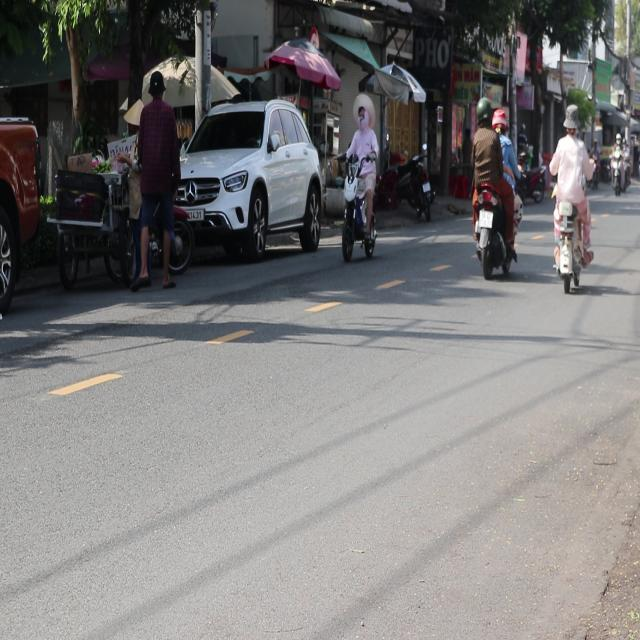helmet: (353, 93, 373, 129), (474, 96, 492, 126), (491, 108, 507, 133)
licenseplate: (468, 95, 520, 278), (548, 102, 595, 290), (339, 92, 380, 261)
motorcyclist: (562, 103, 580, 136)
nohelmet: (478, 210, 493, 228)
